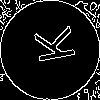K: (25, 25, 76, 67)
